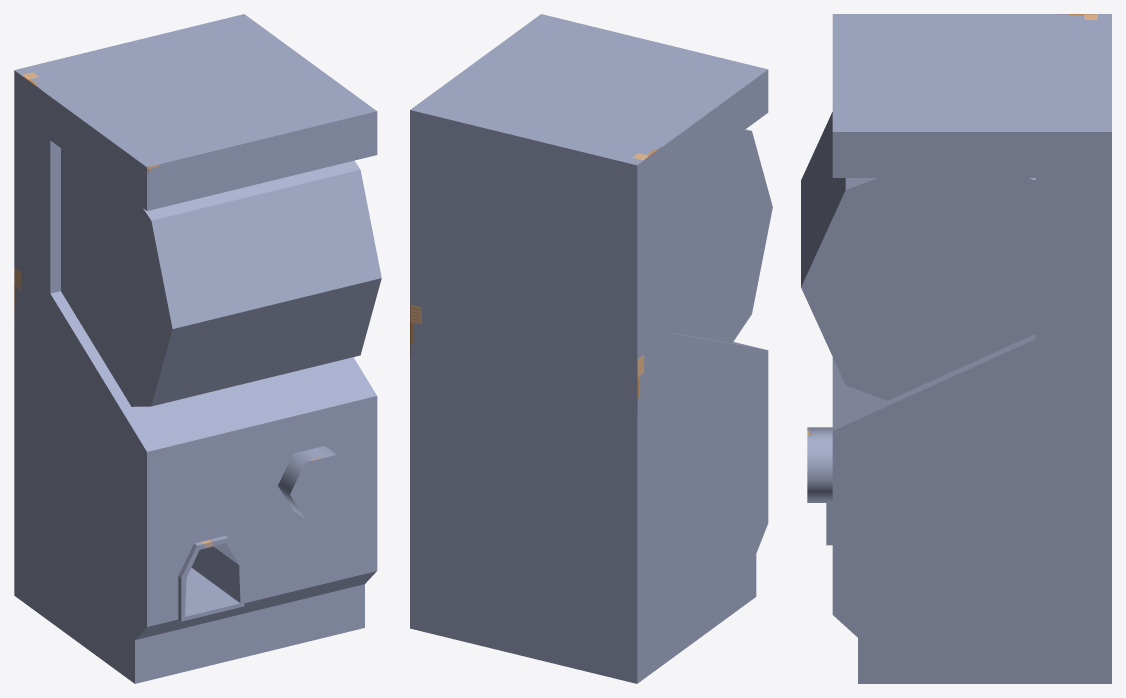
Rendered from machine_gacha.FBX.
3 views of the same model, side by side, from view 1: azimuth 30°, elevation 25°; view 2: azimuth 150°, elevation 25°; view 3: azimuth 270°, elevation 25° (orthographic). The views are drawn at different scales.
Parts seen in each view (by area): view 1: machine_gacha; view 2: machine_gacha; view 3: machine_gacha.
Boxes of the visible parts, x1=… form: machine_gacha: x1=14, y1=14, x2=381, y2=683; machine_gacha: x1=410, y1=14, x2=772, y2=683; machine_gacha: x1=801, y1=14, x2=1111, y2=683.
Bounding box in the file's own units: 44 × 96 × 49.
